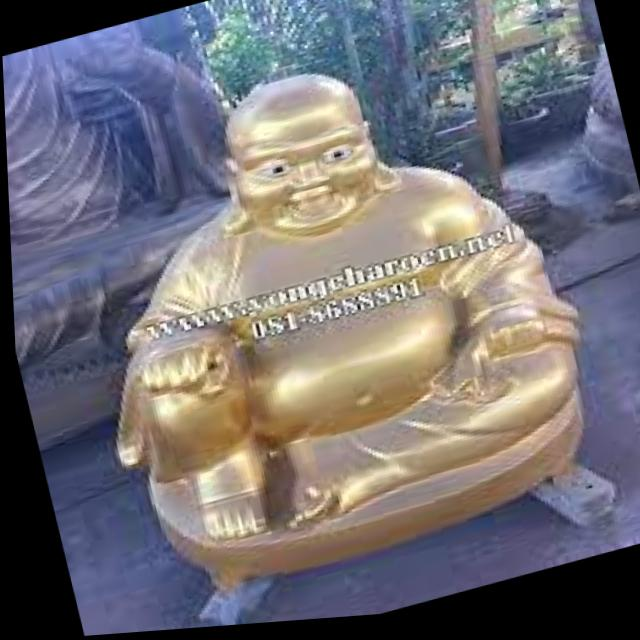Smiling Buddha: (66, 24, 588, 539)
